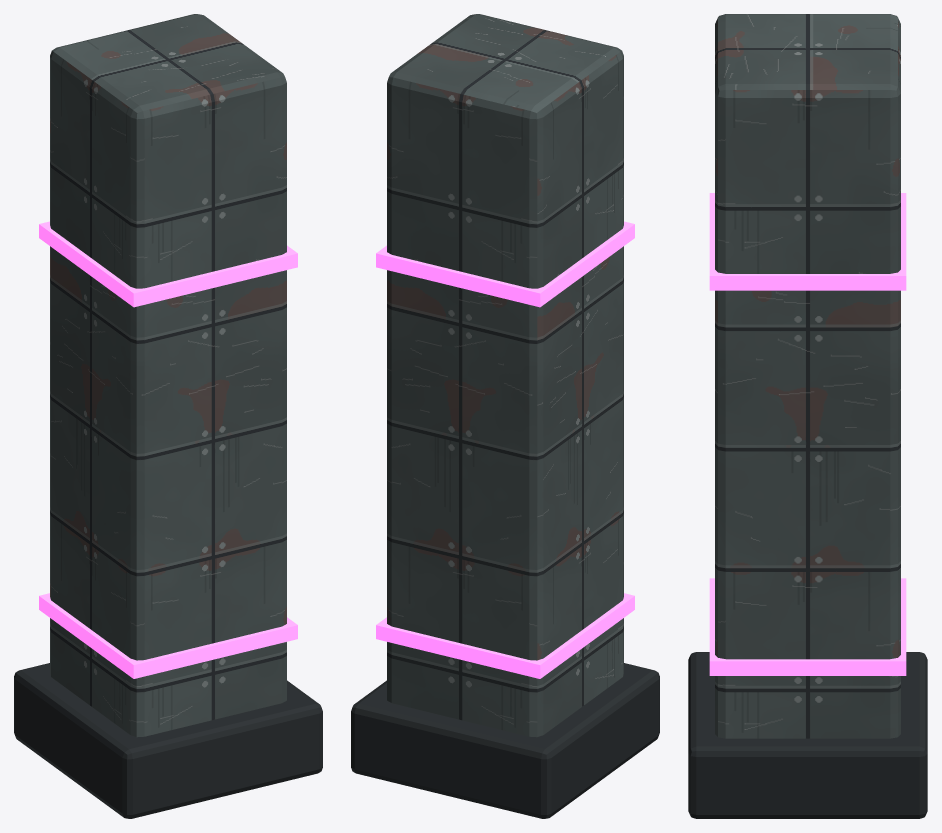
Rendered from pillar.glb.
3 renders of one model, left to right at view 1: azimuth 30°, elevation 25°; view 2: azimuth 150°, elevation 25°; view 3: azimuth 270°, elevation 25°, orthographic. The views are drawn at different scales.
Parts seen in each view (by area): view 1: pillar; view 2: pillar; view 3: pillar.
Boxes of the visible parts, x1,y1,x2,y2 form: pillar: (14,14,322,818); pillar: (351,14,659,818); pillar: (688,14,927,818).
Bounding box in the file's own units: 0.9 × 3 × 0.9.
3 materials, 1 textured.
